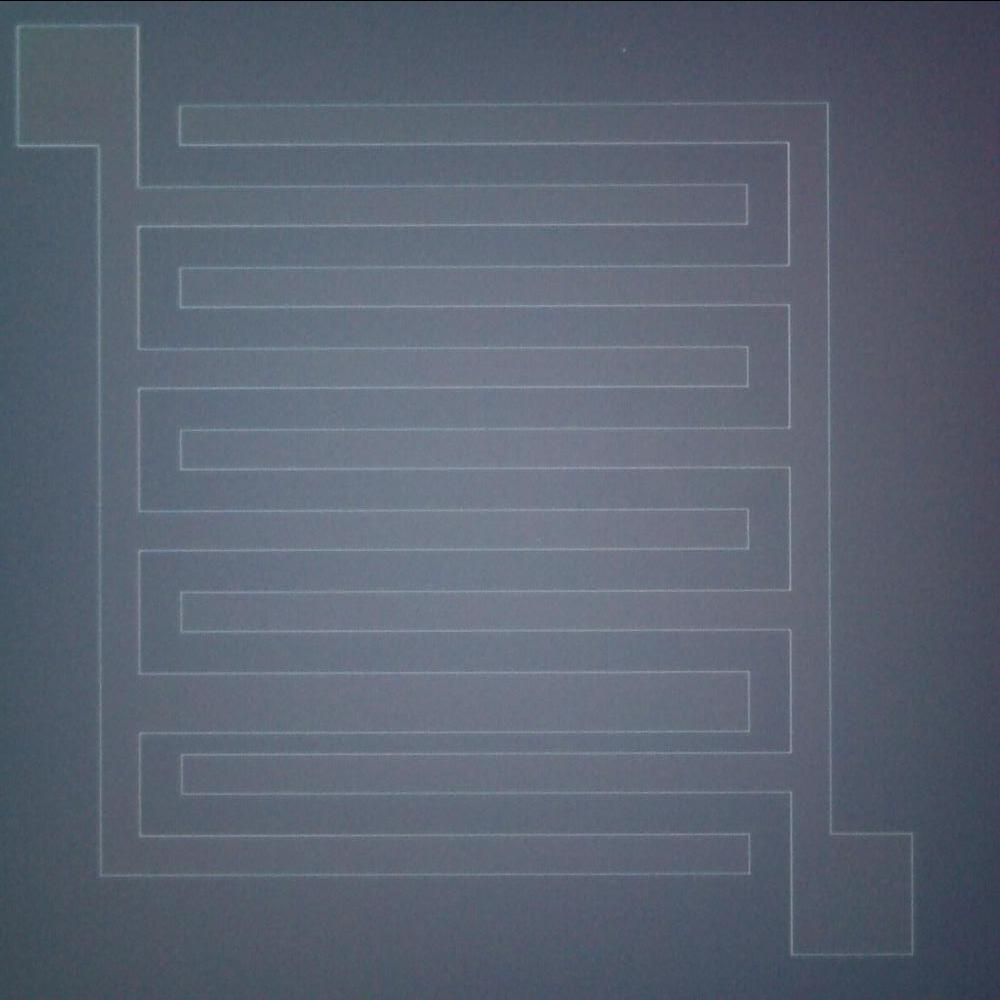fat circuit: (130, 661, 766, 741)
